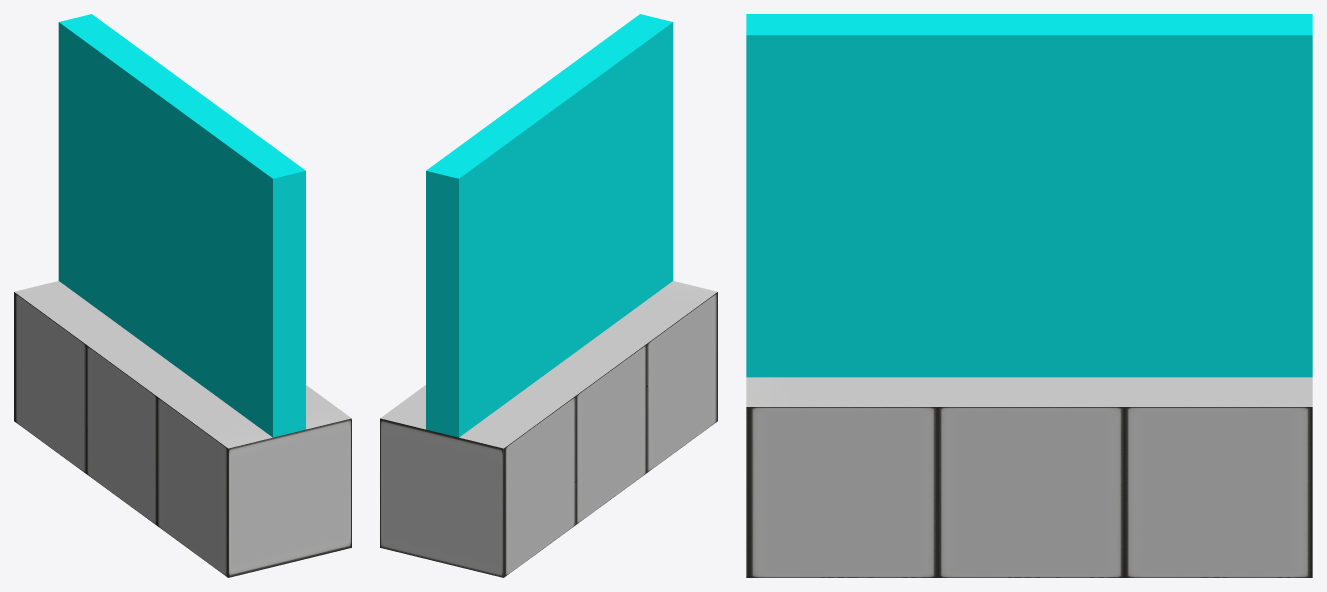
Rendered from wallWindow3L.fbx.
3 views of the same model, side by side, from view 1: azimuth 30°, elevation 25°; view 2: azimuth 150°, elevation 25°; view 3: azimuth 270°, elevation 25° (orthographic). The views are drawn at different scales.
Parts seen in each view (by area): view 1: window5L, wallForWindow5L; view 2: window5L, wallForWindow5L; view 3: window5L, wallForWindow5L.
Part boxes in pixels (x1=…): window5L: x1=58, y1=14, x2=305, y2=437; wallForWindow5L: x1=14, y1=281, x2=351, y2=577; window5L: x1=426, y1=14, x2=673, y2=437; wallForWindow5L: x1=380, y1=281, x2=717, y2=577; window5L: x1=746, y1=14, x2=1312, y2=377; wallForWindow5L: x1=746, y1=377, x2=1312, y2=577.
Bounding box in the file's own units: 1 × 3 × 3.
